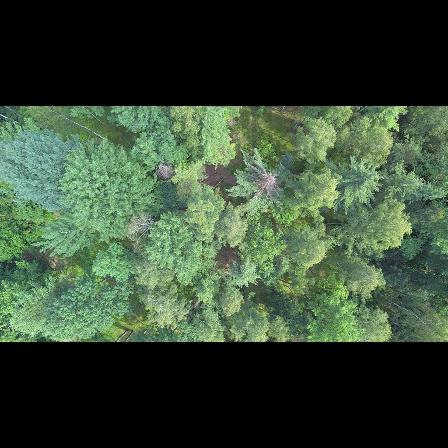Dead: (250, 161, 284, 200), (127, 214, 160, 242), (152, 158, 179, 181)
